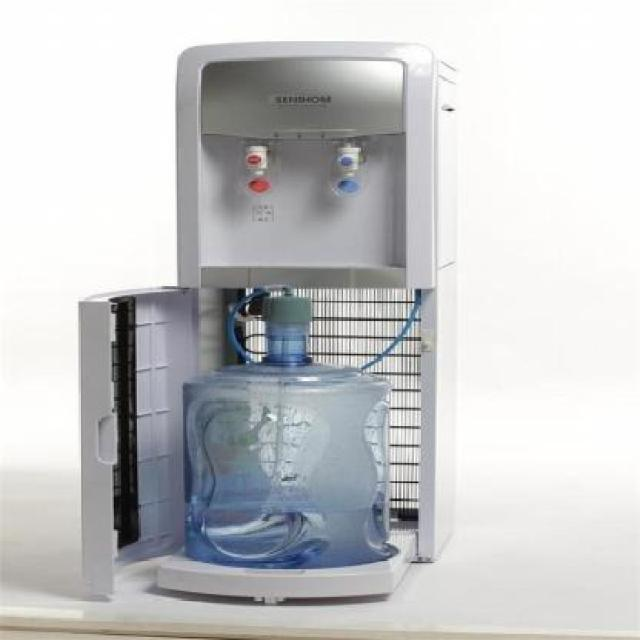coolerbottle: (183, 295, 395, 571)
